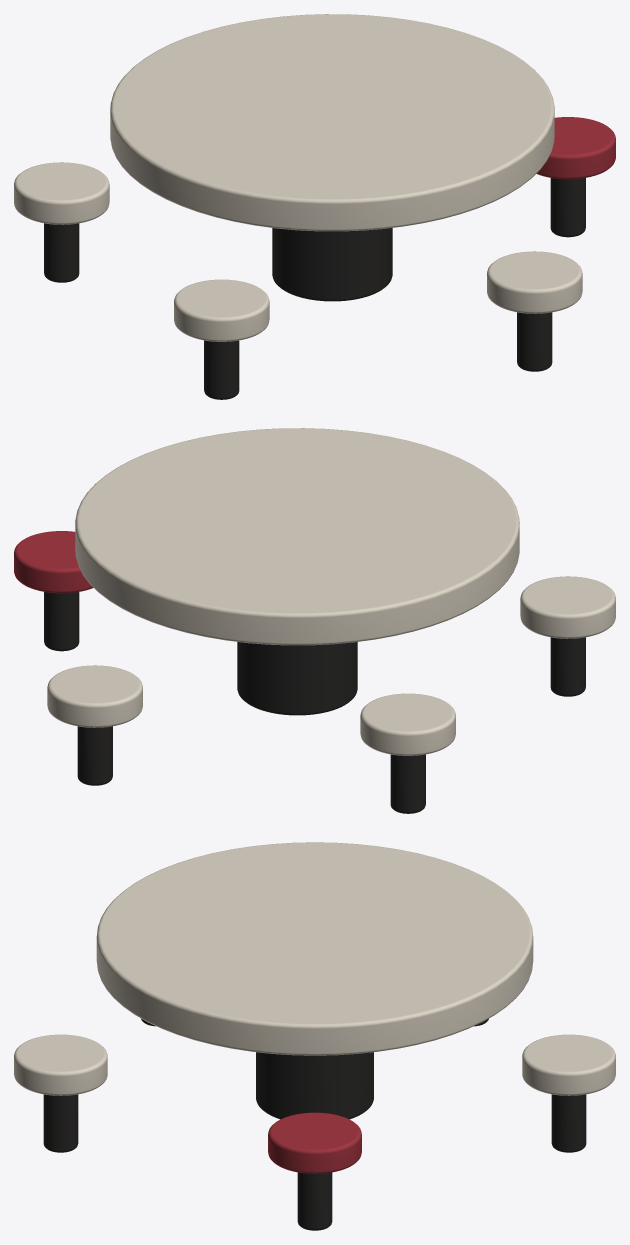
Rendered from VSV-017.glb.
3 views of the same model, one above another, from view 1: azimuth 30°, elevation 25°; view 2: azimuth 150°, elevation 25°; view 3: azimuth 270°, elevation 25° (orthographic).
Parts seen in each view (by area): view 1: VSV-017_roundtable__table, VSV-017_roundtable__pedestal, VSV-017_roundtable__seat.002, VSV-017_roundtable__seat.004, VSV-017_roundtable__seat.003, VSV-017_roundtable__seat, VSV-017_roundtable__leg.002, VSV-017_roundtable__leg.004, VSV-017_roundtable__leg, VSV-017_roundtable__leg.003; view 2: VSV-017_roundtable__table, VSV-017_roundtable__pedestal, VSV-017_roundtable__seat.003, VSV-017_roundtable__seat.001, VSV-017_roundtable__seat.002, VSV-017_roundtable__seat, VSV-017_roundtable__leg.001, VSV-017_roundtable__leg.003, VSV-017_roundtable__leg, VSV-017_roundtable__leg.002; view 3: VSV-017_roundtable__table, VSV-017_roundtable__pedestal, VSV-017_roundtable__seat, VSV-017_roundtable__seat.001, VSV-017_roundtable__seat.004, VSV-017_roundtable__leg.001, VSV-017_roundtable__leg.004, VSV-017_roundtable__leg.
Boxes of the visible parts, x1,y1,x2,y2 form: VSV-017_roundtable__table: [110, 14, 554, 231]; VSV-017_roundtable__pedestal: [272, 228, 392, 301]; VSV-017_roundtable__seat.002: [14, 162, 109, 224]; VSV-017_roundtable__seat.004: [487, 251, 582, 313]; VSV-017_roundtable__seat.003: [174, 279, 269, 341]; VSV-017_roundtable__seat: [536, 117, 615, 179]; VSV-017_roundtable__leg.002: [44, 223, 79, 282]; VSV-017_roundtable__leg.004: [517, 312, 552, 371]; VSV-017_roundtable__leg: [550, 178, 585, 237]; VSV-017_roundtable__leg.003: [204, 340, 239, 399]; VSV-017_roundtable__table: [75, 428, 519, 645]; VSV-017_roundtable__pedestal: [237, 642, 357, 715]; VSV-017_roundtable__seat.003: [520, 576, 615, 638]; VSV-017_roundtable__seat.001: [47, 665, 142, 727]; VSV-017_roundtable__seat.002: [360, 693, 455, 755]; VSV-017_roundtable__seat: [14, 531, 93, 593]; VSV-017_roundtable__leg.001: [77, 726, 112, 785]; VSV-017_roundtable__leg.003: [550, 637, 585, 696]; VSV-017_roundtable__leg: [44, 592, 79, 651]; VSV-017_roundtable__leg.002: [390, 754, 425, 813]; VSV-017_roundtable__table: [96, 842, 533, 1055]; VSV-017_roundtable__pedestal: [256, 1052, 373, 1119]; VSV-017_roundtable__seat: [268, 1112, 361, 1173]; VSV-017_roundtable__seat.001: [522, 1034, 615, 1095]; VSV-017_roundtable__seat.004: [14, 1034, 107, 1095]; VSV-017_roundtable__leg.001: [551, 1094, 586, 1152]; VSV-017_roundtable__leg.004: [43, 1094, 78, 1152]; VSV-017_roundtable__leg: [297, 1172, 332, 1230].
Bounding box in the file's own units: 2.83 × 0.965 × 2.95.
